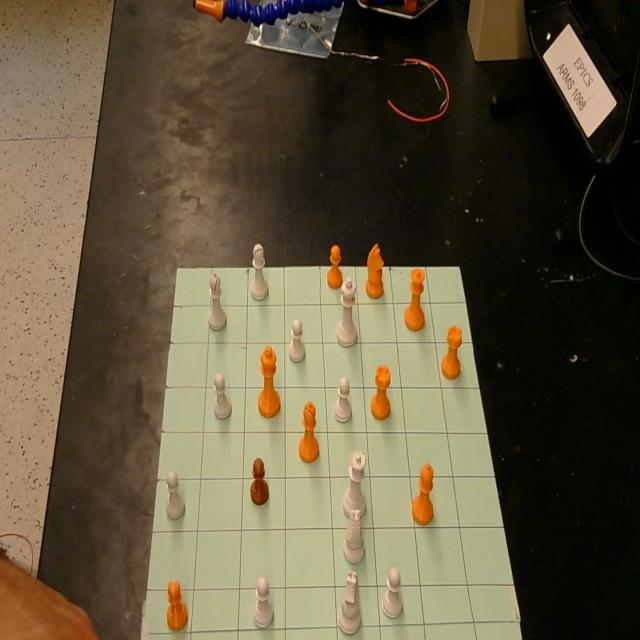orange_bishop: (411, 463, 434, 526), (298, 401, 320, 462)
orange_king: (258, 346, 281, 418)
orange_knight: (365, 242, 384, 299)
orange_pawn: (166, 578, 188, 631), (250, 458, 269, 506), (327, 244, 343, 289)
orange_queen: (404, 268, 425, 332)
orange_rook: (440, 324, 462, 380), (371, 364, 391, 420)
white_king: (337, 277, 358, 346), (208, 270, 227, 330), (250, 244, 268, 302)
white_knight: (338, 569, 362, 634), (342, 507, 365, 563)
white_pawn: (381, 566, 403, 618), (253, 575, 274, 628), (212, 372, 232, 420), (166, 469, 185, 519), (334, 376, 352, 424), (288, 320, 305, 362)
white_queen: (342, 452, 367, 518)
